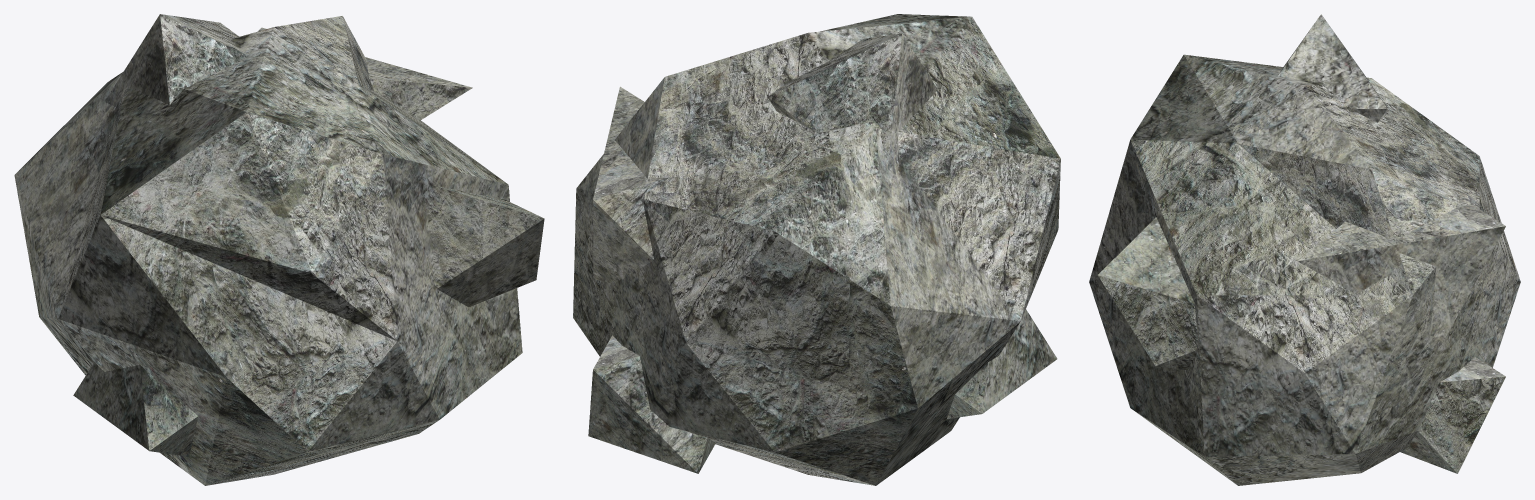
Rendered from Rock1.FBX.
3 views of the same model, side by side, from view 1: azimuth 30°, elevation 25°; view 2: azimuth 150°, elevation 25°; view 3: azimuth 270°, elevation 25° (orthographic). The views are drawn at different scales.
Visible parts, largest first — view 1: Hedra002; view 2: Hedra002; view 3: Hedra002.
Boxes of the visible parts, x1,y1,x2,y2 form: Hedra002: (14,14,544,485); Hedra002: (573,14,1060,485); Hedra002: (1089,14,1520,485).
Bounding box in the file's own units: 14.73 × 15.71 × 14.67.
